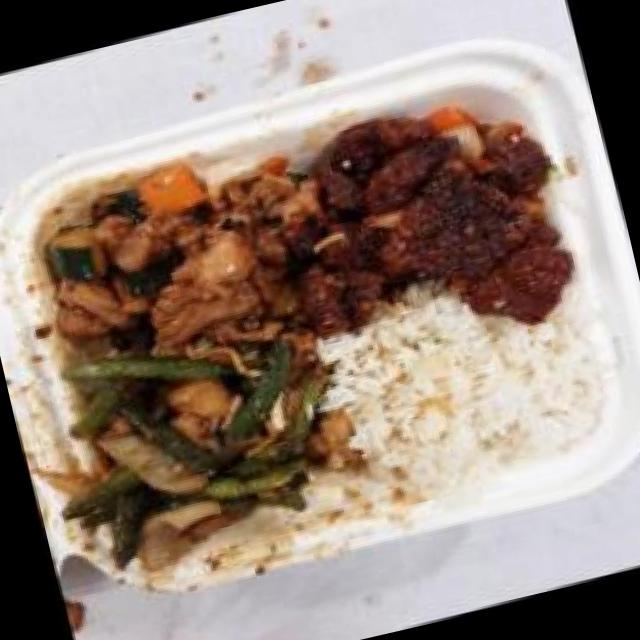Beijing Beef: (258, 66, 596, 382)
Kung Pao Chicken: (13, 129, 329, 400)
String Bean Chicken Breast: (31, 310, 346, 576)
White Steamed Rice: (314, 279, 619, 527)
